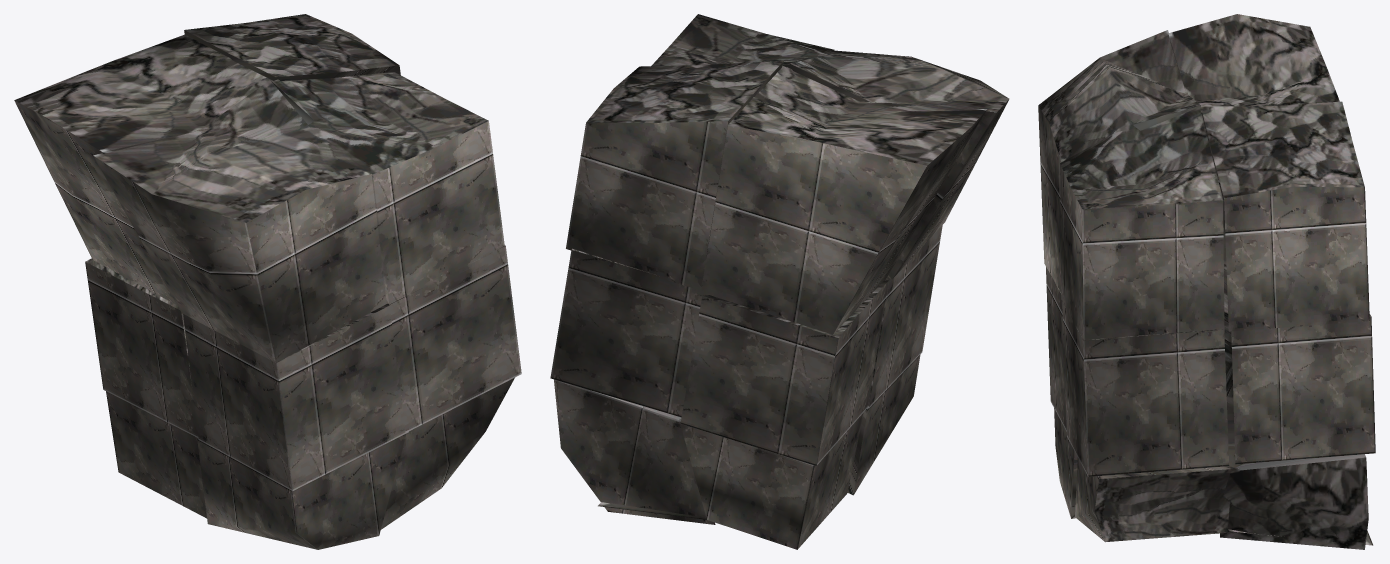
The model's file is INST_SM_DEBRIS_BLOCK_MEDIUMB_DESTROYED_DEBRISBLOCKMEDIUK__AI.fbx.
The picture shows the model from 3 angles, left to right: view 1: azimuth 30°, elevation 25°; view 2: azimuth 150°, elevation 25°; view 3: azimuth 270°, elevation 25°; orthographic projection. The views are drawn at different scales.
Visible parts, largest first — view 1: INST_SM_DEBRIS_BLOCK_MEDIUMB_DESTROYED_DEBRISBLOCKMEDIUK__AI; view 2: INST_SM_DEBRIS_BLOCK_MEDIUMB_DESTROYED_DEBRISBLOCKMEDIUK__AI; view 3: INST_SM_DEBRIS_BLOCK_MEDIUMB_DESTROYED_DEBRISBLOCKMEDIUK__AI.
Part boxes in pixels (left/top/right/bottom): INST_SM_DEBRIS_BLOCK_MEDIUMB_DESTROYED_DEBRISBLOCKMEDIUK__AI: left=14, top=14, right=521, bottom=549; INST_SM_DEBRIS_BLOCK_MEDIUMB_DESTROYED_DEBRISBLOCKMEDIUK__AI: left=550, top=14, right=1009, bottom=549; INST_SM_DEBRIS_BLOCK_MEDIUMB_DESTROYED_DEBRISBLOCKMEDIUK__AI: left=1038, top=14, right=1375, bottom=549.
Bounding box in the file's own units: 46003 × 47257 × 35494.
Materials: 2 (2 with a texture image).
